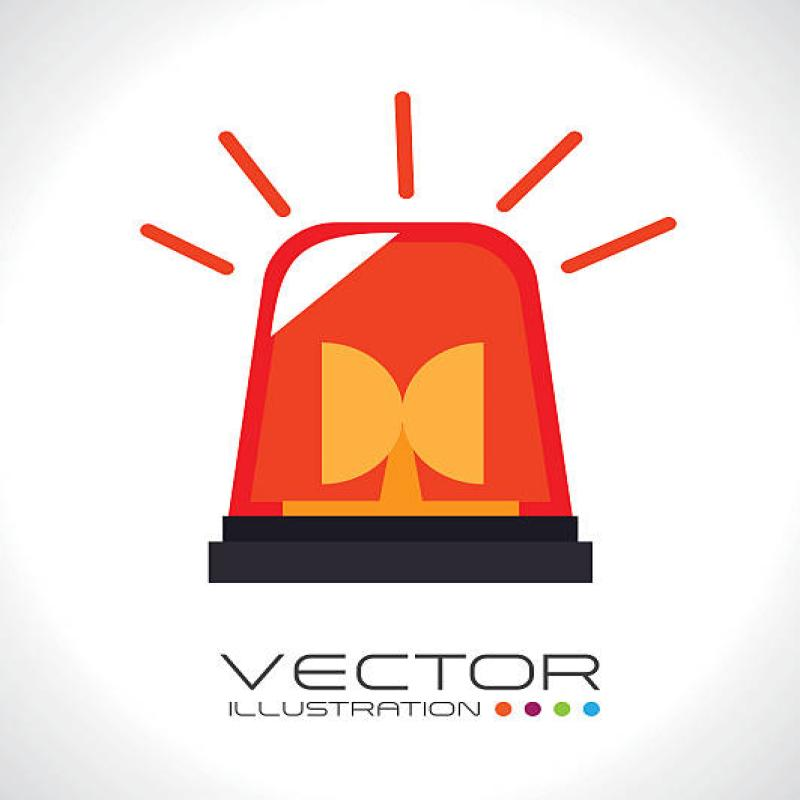AmbulanceSiren: (224, 207, 602, 594)
